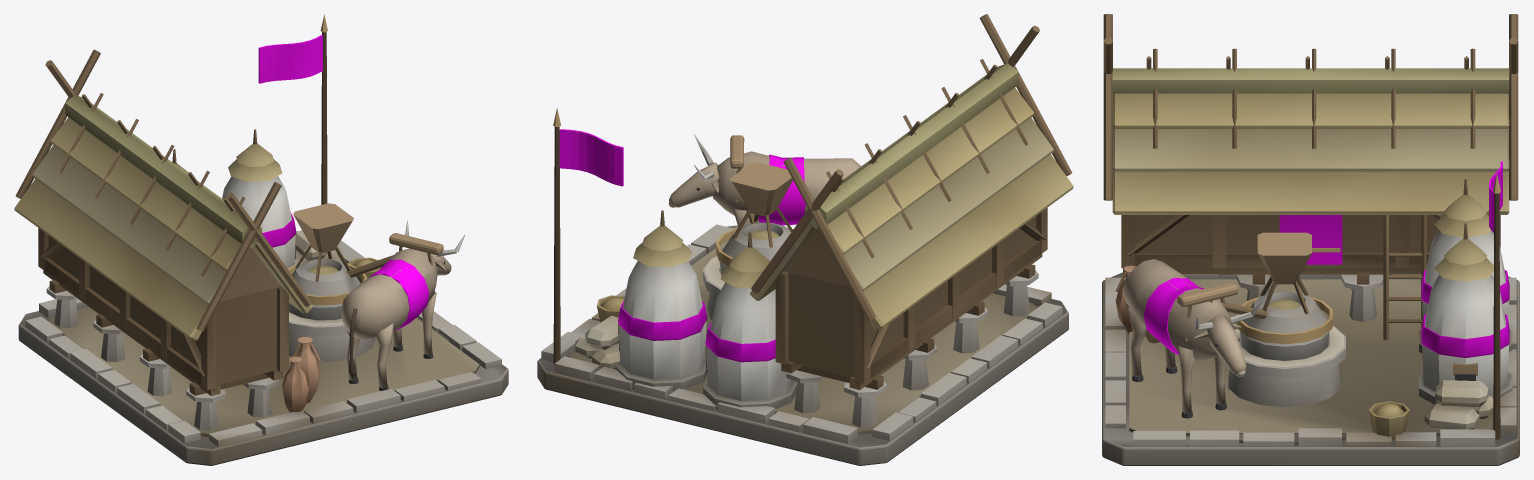
The model's file is power_plant_antiquity.glb.
3 renders of one model, left to right at view 1: azimuth 30°, elevation 25°; view 2: azimuth 150°, elevation 25°; view 3: azimuth 270°, elevation 25°, orthographic. The views are drawn at different scales.
Visible parts, largest first — view 1: Body; view 2: Body; view 3: Body.
Part boxes in pixels (<box>): Body: <box>14,14,508,465</box>; Body: <box>537,14,1073,465</box>; Body: <box>1102,14,1519,465</box>.
Bounding box in the file's own units: 4 × 3.15 × 4.
1 material, 1 textured.
